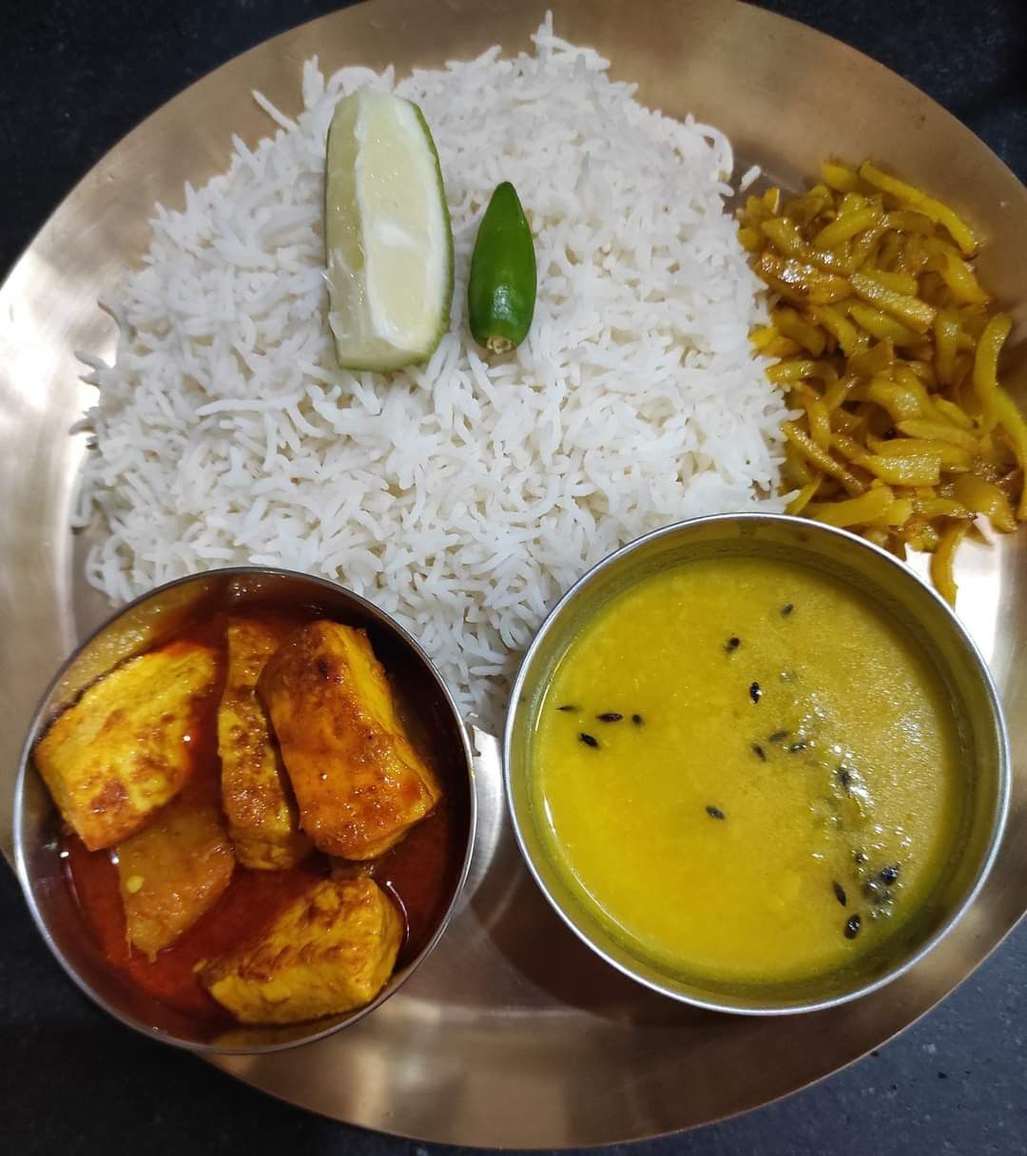bhat: (106, 41, 781, 701)
dal: (531, 556, 947, 992)
sabji: (37, 587, 434, 1018), (744, 181, 1027, 593)
